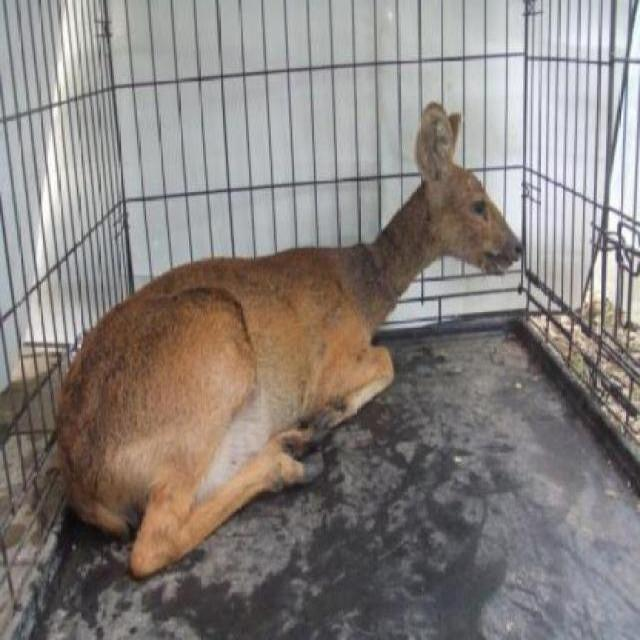deer: (54, 91, 532, 594)
